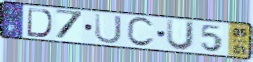5: (200, 24, 226, 53)
7: (54, 8, 85, 42)
C: (126, 16, 157, 48)
D: (25, 7, 54, 39)
U: (165, 18, 197, 52), (94, 12, 124, 45)
